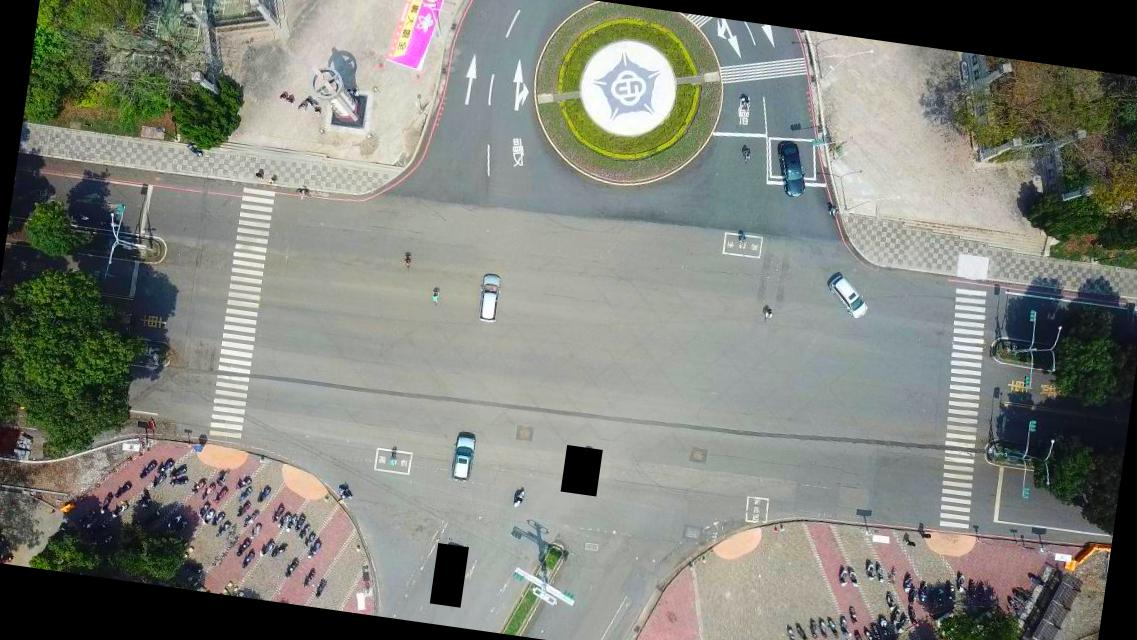vehicle: (769, 137, 813, 200), (822, 270, 872, 322), (449, 429, 478, 482), (476, 273, 503, 324)
